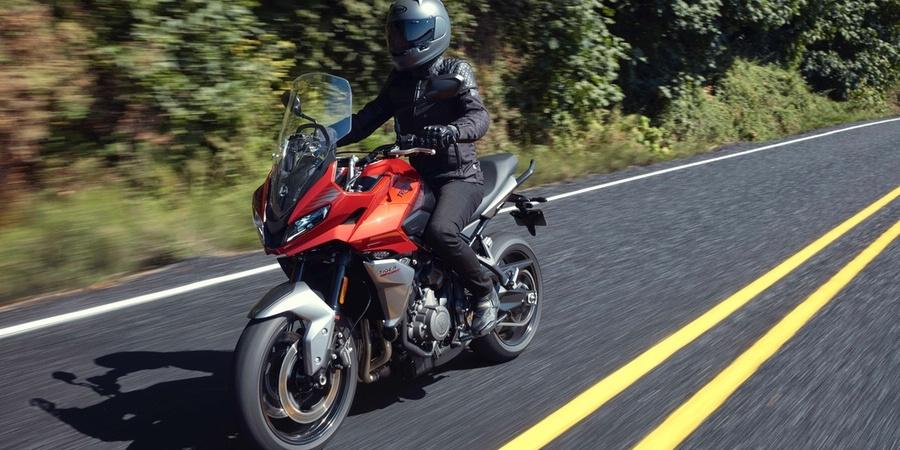摩托车: (242, 138, 552, 443)
